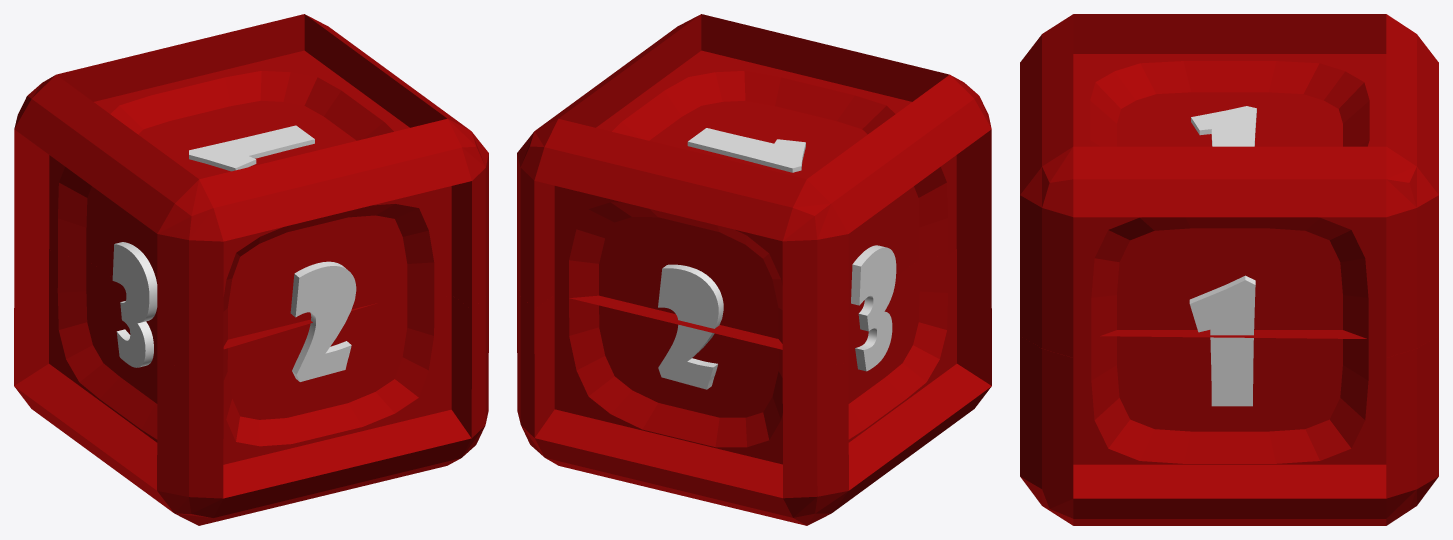
Rendered from Dice.fbx.
The picture shows the model from 3 angles, left to right: view 1: azimuth 30°, elevation 25°; view 2: azimuth 150°, elevation 25°; view 3: azimuth 270°, elevation 25°; orthographic projection. The views are drawn at different scales.
Parts seen in each view (by area): view 1: pCube2, group1, typeMesh13; view 2: pCube2, group1; view 3: pCube2, typeMesh18, group1.
Part boxes in pixels (x1=…): pCube2: x1=14, y1=14, x2=488, y2=525; group1: x1=112, y1=125, x2=314, y2=367; typeMesh13: x1=290, y1=261, x2=356, y2=381; pCube2: x1=517, y1=14, x2=991, y2=525; group1: x1=658, y1=128, x2=896, y2=389; pCube2: x1=1020, y1=14, x2=1438, y2=525; typeMesh18: x1=1189, y1=275, x2=1255, y2=406; group1: x1=1191, y1=106, x2=1256, y2=146.
Size of the model in its own units: 4.83 by 4.83 by 4.83.
